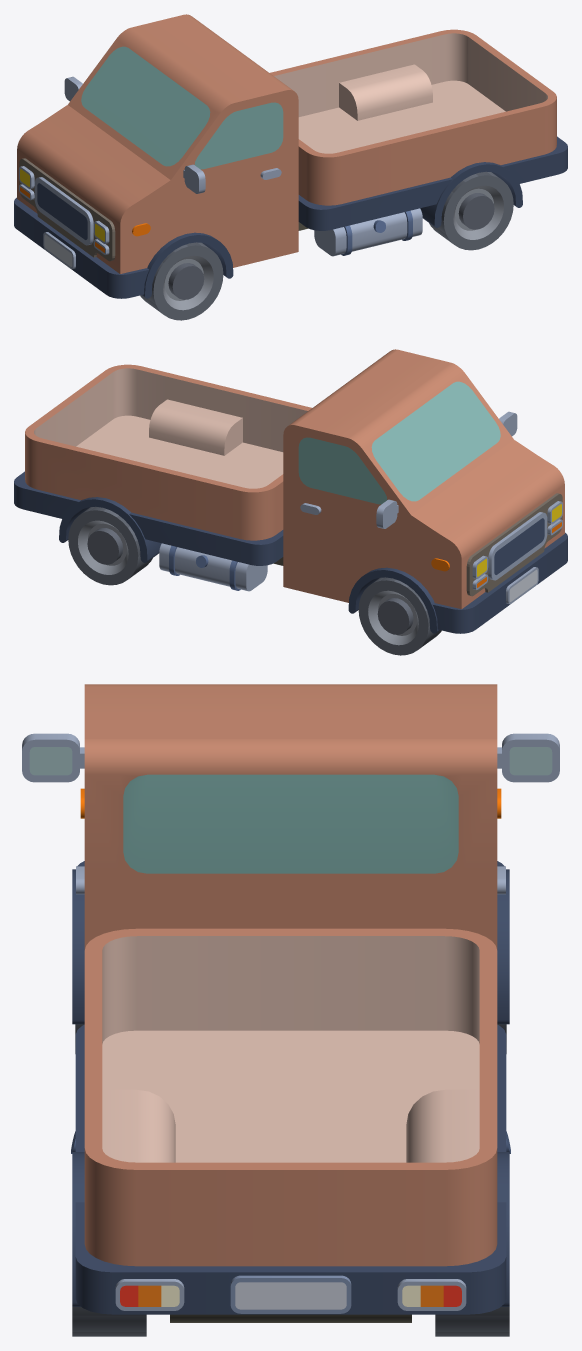
Rendered from Van City Pickup.fbx.
3 views of the same model, one above another, from view 1: azimuth 30°, elevation 25°; view 2: azimuth 150°, elevation 25°; view 3: azimuth 270°, elevation 25° (orthographic). The views are drawn at different scales.
Parts seen in each view (by area): view 1: Van City Pickup, Van City Pickup Wheel.001, Van City Pickup Wheel; view 2: Van City Pickup, Van City Pickup Wheel.001, Van City Pickup Wheel; view 3: Van City Pickup, Van City Pickup Wheel.001.
Boxes of the visible parts, bbox=[...] form: Van City Pickup: bbox=[14, 14, 567, 298]; Van City Pickup Wheel.001: bbox=[429, 171, 513, 250]; Van City Pickup Wheel: bbox=[140, 242, 223, 320]; Van City Pickup: bbox=[14, 349, 567, 633]; Van City Pickup Wheel.001: bbox=[68, 506, 152, 585]; Van City Pickup Wheel: bbox=[358, 577, 441, 655]; Van City Pickup: bbox=[22, 684, 559, 1322]; Van City Pickup Wheel.001: bbox=[72, 1307, 509, 1336].
Bounding box in the file's own units: 1104 × 460 × 552.
